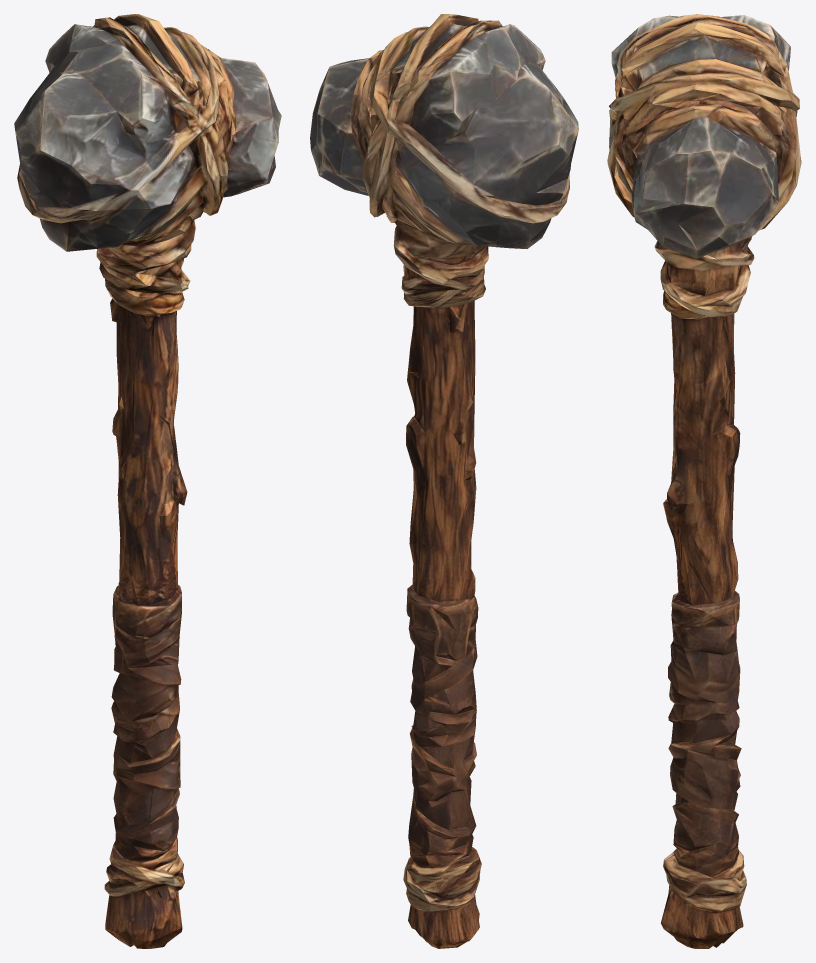
Rendered from w-maul.glb.
3 renders of one model, left to right at view 1: azimuth 30°, elevation 25°; view 2: azimuth 150°, elevation 25°; view 3: azimuth 270°, elevation 25°, orthographic.
Parts seen in each view (by area): view 1: Mesh_0; view 2: Mesh_0; view 3: Mesh_0.
Part boxes in pixels (x1,y1,x2,y2): Mesh_0: (14,14,281,948); Mesh_0: (310,14,578,948); Mesh_0: (607,14,801,948).
Size of the model in its own units: 0.5404 by 1.9 by 0.3623.
Materials: 1 (1 with a texture image).
